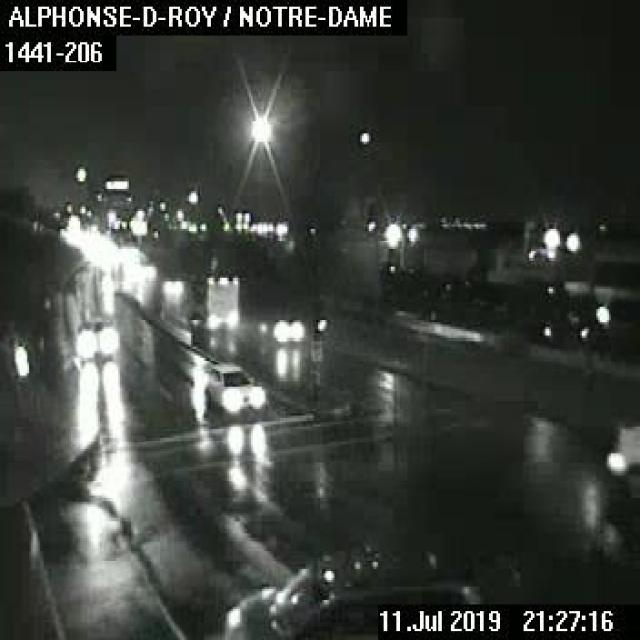vehicle: (222, 540, 527, 638), (204, 360, 264, 413), (186, 271, 238, 327), (73, 316, 120, 358), (262, 314, 307, 342), (160, 276, 184, 298)
